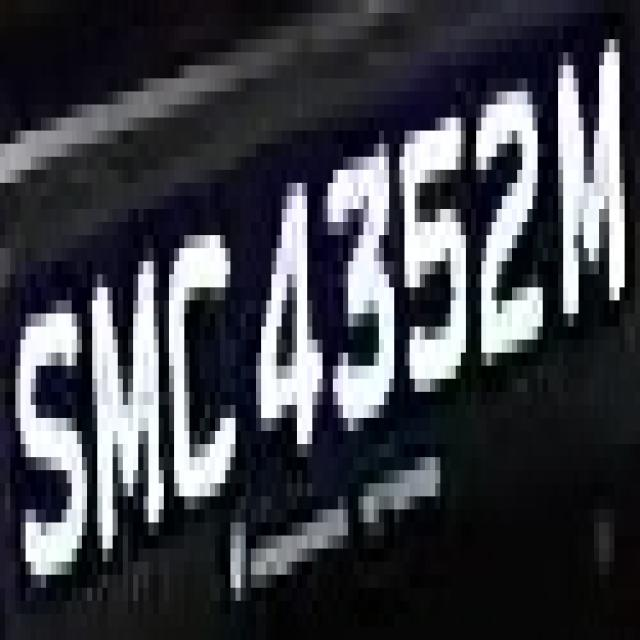2: (471, 65, 553, 379)
3: (318, 92, 404, 457)
4: (245, 157, 328, 470)
5: (394, 78, 471, 405)
C: (158, 209, 236, 549)
M: (66, 209, 164, 549), (548, 52, 624, 327)
S: (5, 261, 87, 588)
